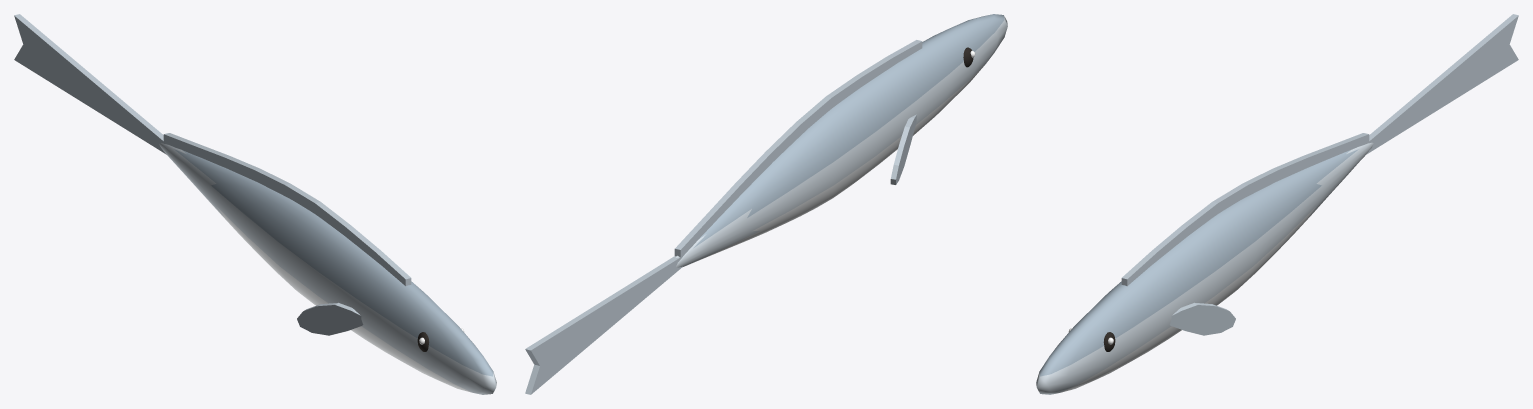
File: fish-hairtail.glb
The picture shows the model from 3 angles, left to right: view 1: azimuth 30°, elevation 25°; view 2: azimuth 150°, elevation 25°; view 3: azimuth 330°, elevation 25°; orthographic projection.
Parts seen in each view (by area): view 1: fish; view 2: fish; view 3: fish.
Boxes of the visible parts, x1,y1,x2,y2 form: fish: (14, 14, 496, 394); fish: (525, 14, 1007, 394); fish: (1036, 14, 1518, 394).
Size of the model in its own units: 0.0914 by 0.0982 by 0.86.
